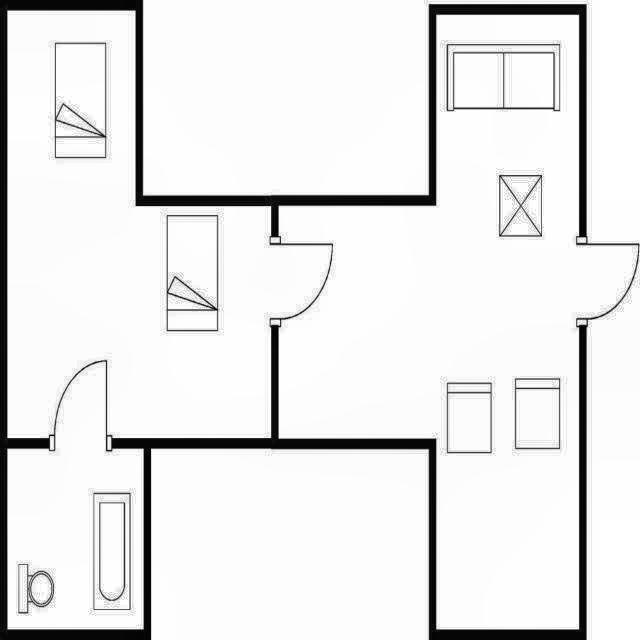room: (278, 14, 579, 630), (7, 10, 271, 438), (7, 449, 144, 630)
